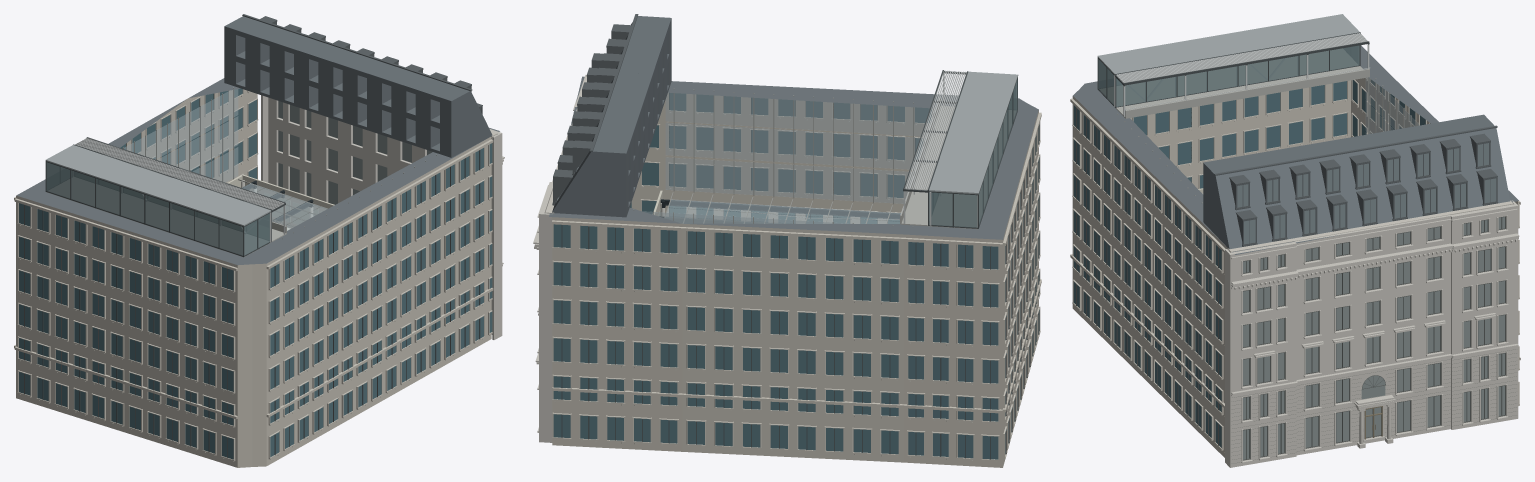
File: ckk-exterior-b02f45eb2365.glb
3 renders of one model, left to right at view 1: azimuth 30°, elevation 25°; view 2: azimuth 150°, elevation 25°; view 3: azimuth 270°, elevation 25°, orthographic. The views are drawn at different scales.
Parts seen in each view (by area): view 1: CKK.001; view 2: CKK.001; view 3: CKK.001.
Boxes of the visible parts, left/top/right/bottom form: CKK.001: left=14, top=14, right=504, bottom=467; CKK.001: left=533, top=14, right=1041, bottom=467; CKK.001: left=1070, top=14, right=1520, bottom=467.
Size of the model in its own units: 56.1 by 32.3 by 47.89.
